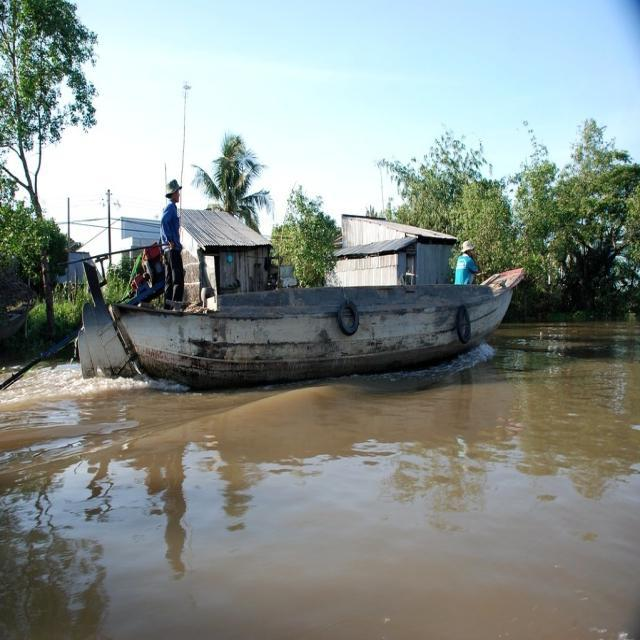boat: (88, 256, 536, 389)
